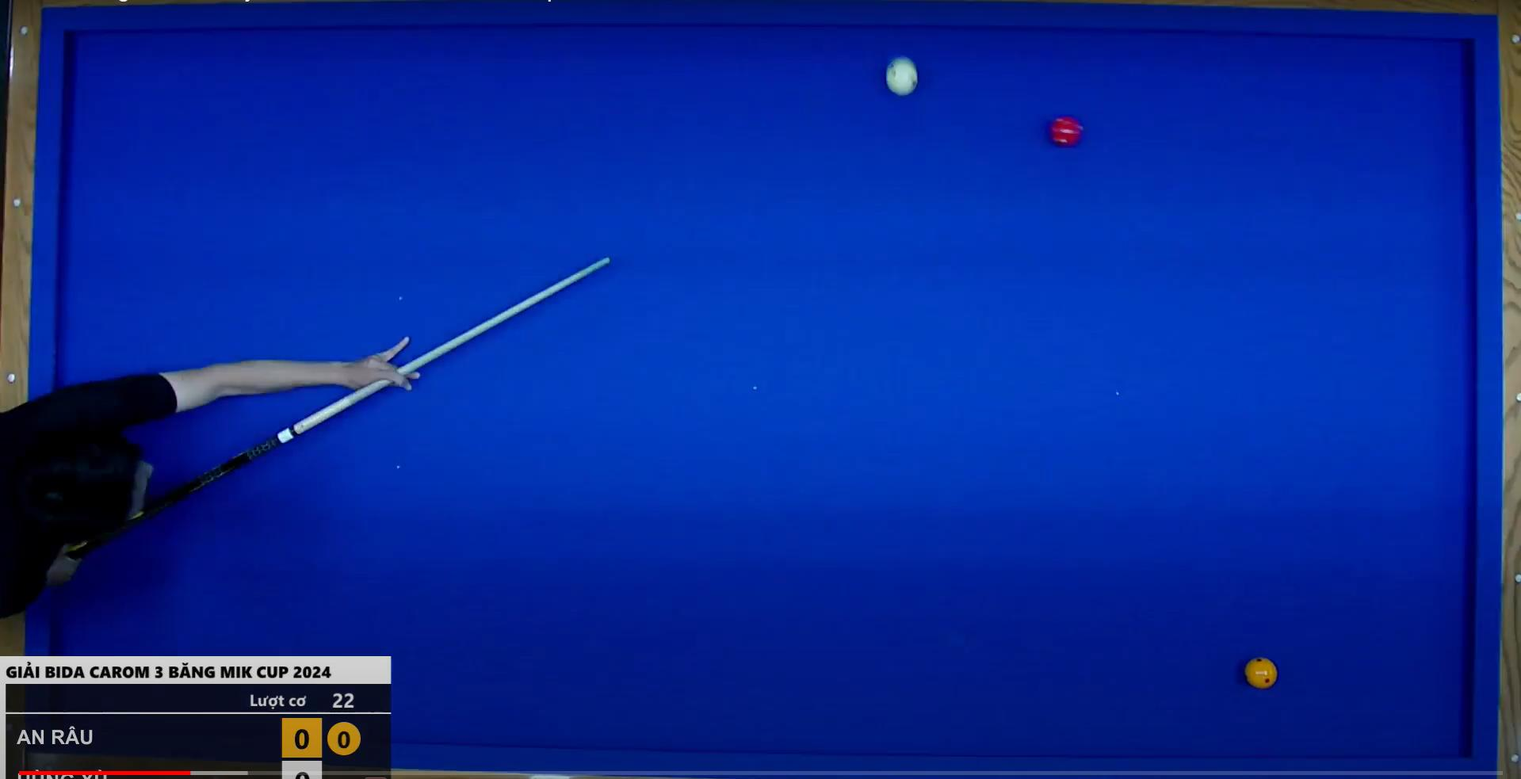red ball: (1044, 110, 1088, 158)
white ball: (878, 49, 929, 106)
yellow ball: (1239, 649, 1285, 701)
